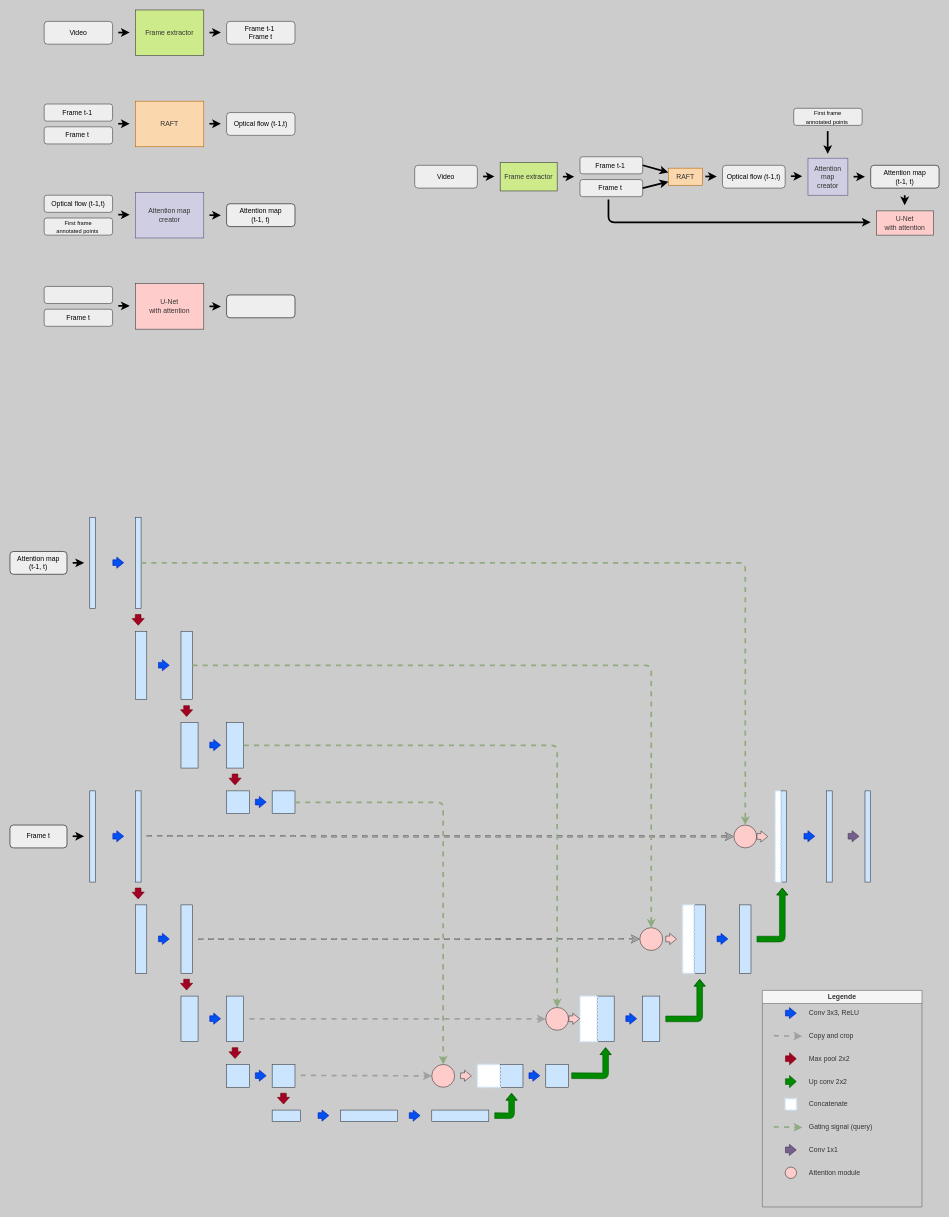
Image size: 949x1217. Some labels were removed from this diagram. The shapes that lost their labels are listed below. From the top down, each one's centre as x and y in pixels, then its label:
At (78,295): "Attention map (t-1,t)".
At (260,306): "Segmentation mask".
